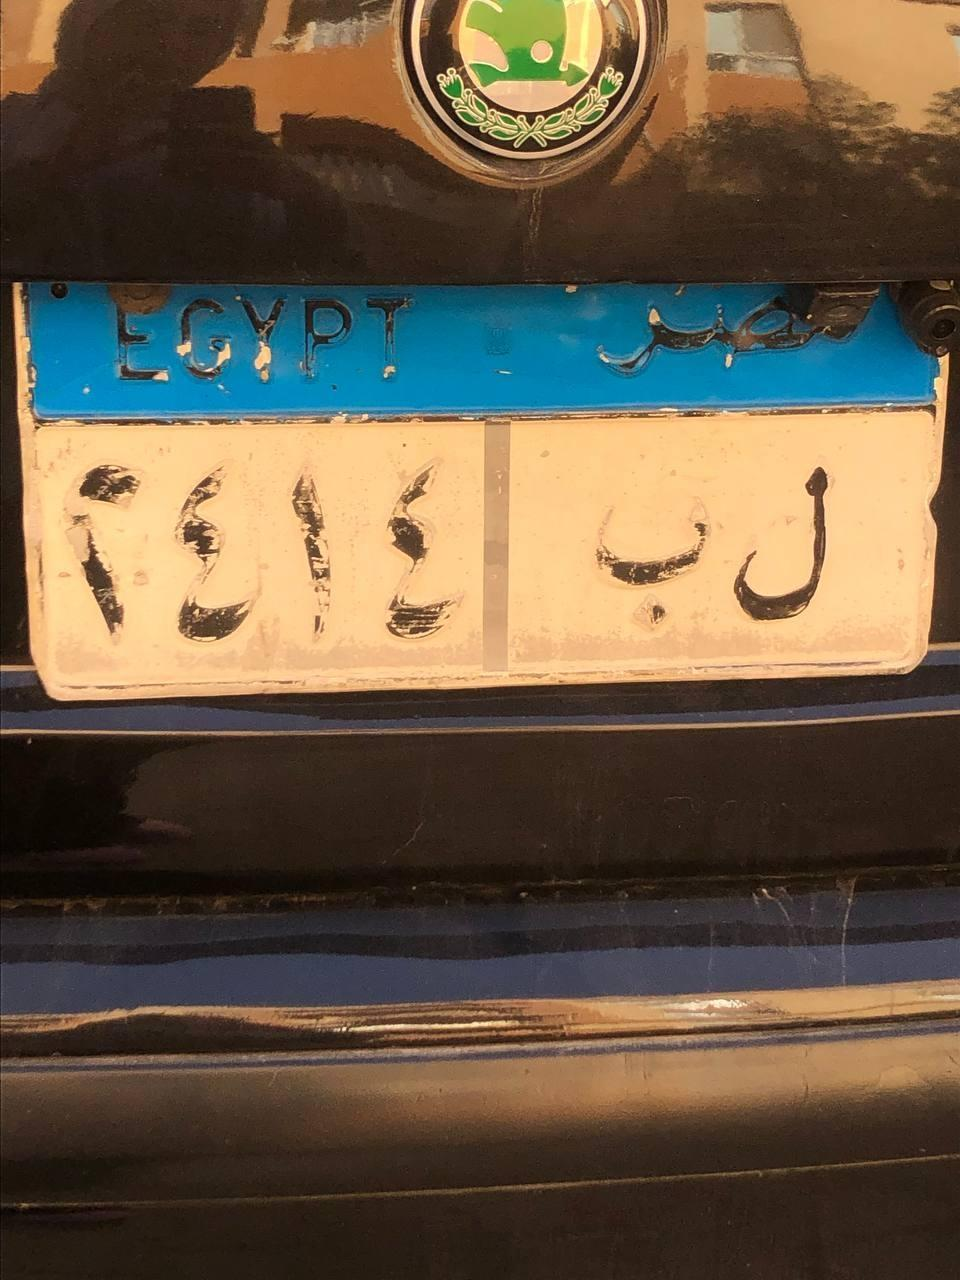1: (267, 450, 343, 640)
2: (50, 463, 160, 638)
4: (386, 466, 486, 648), (159, 477, 258, 656)
Laam: (742, 476, 836, 630)
License Plate: (11, 277, 950, 706)
baa: (579, 500, 708, 633)
